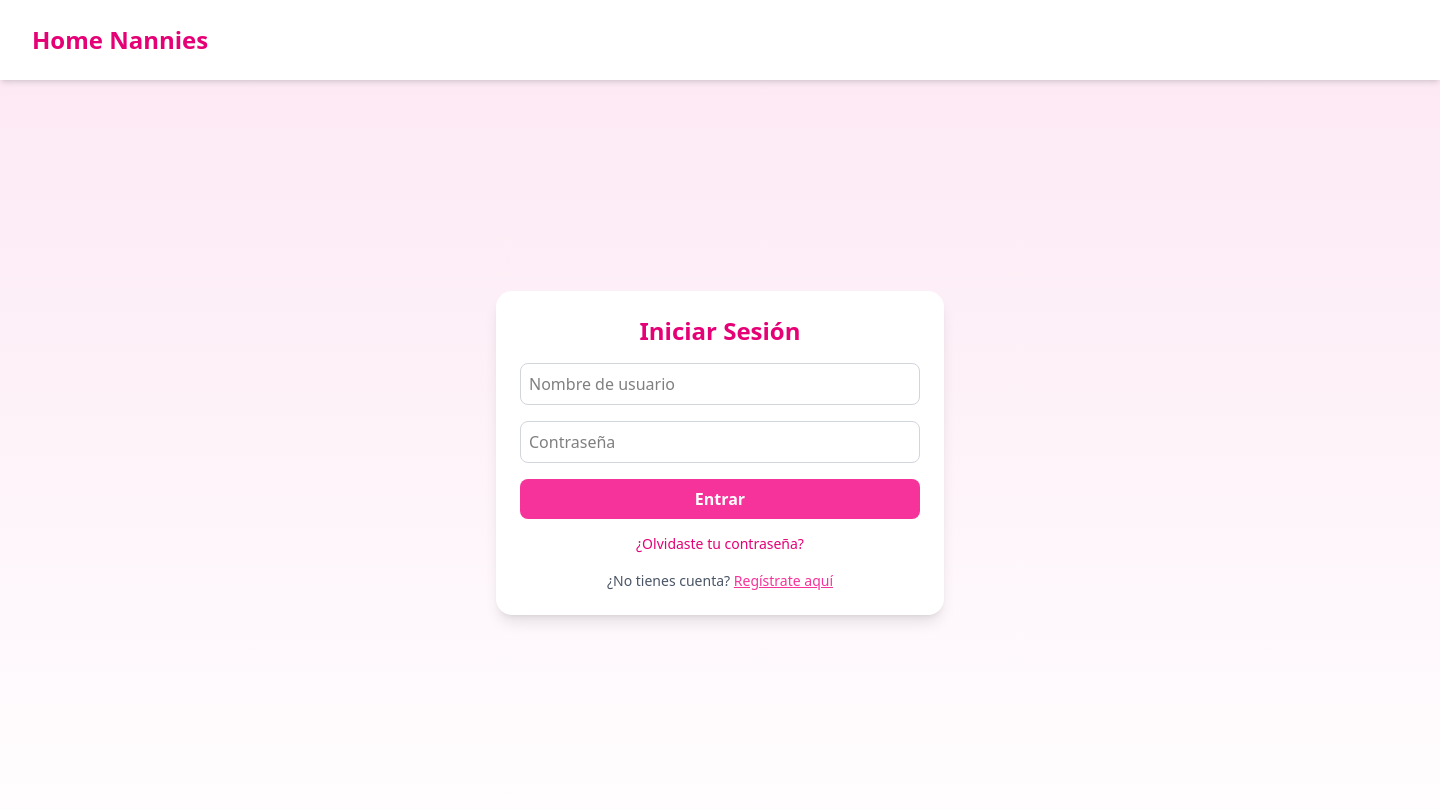
Test: Login Component › maneja error de credenciales incorrectas
Type "testuser" into the field with placeholder "Nombre de usuario".
click(720, 384); type("testuser")  # box [520,363,920,405]
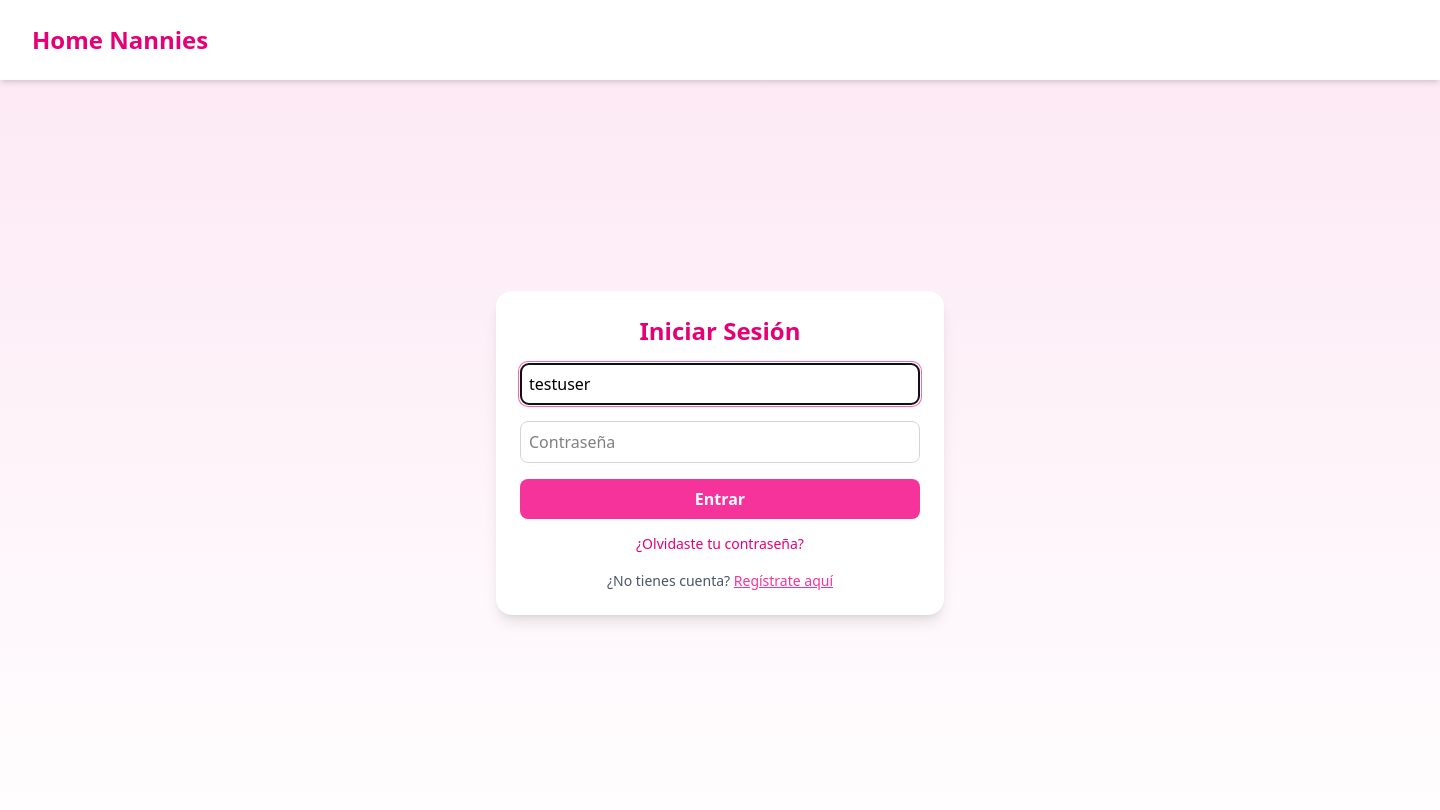
Type "wrongpassword123" into the password field with placeholder "Contraseña".
click(720, 442); type("wrongpassword123")  # box [520,421,920,463]
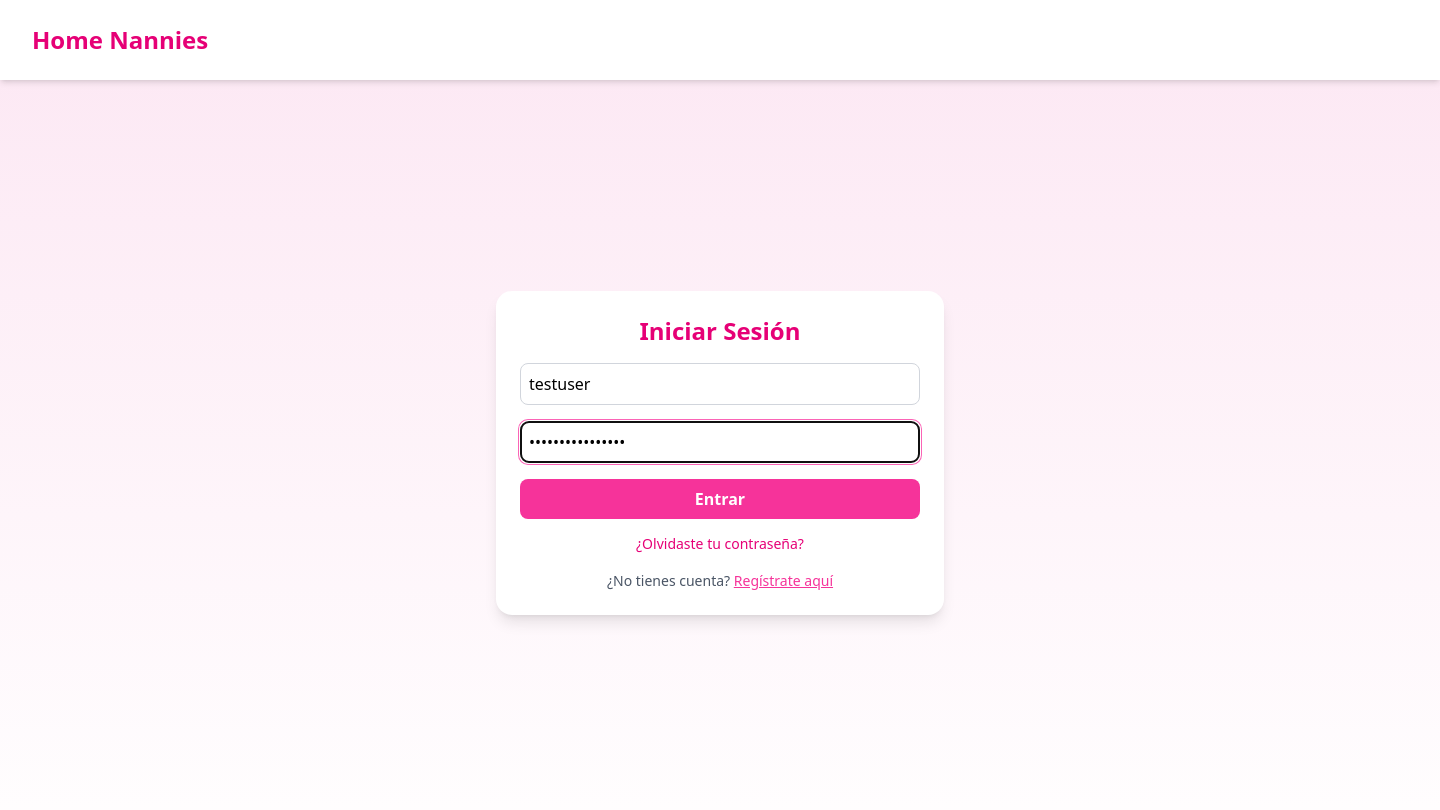
Click the button "Entrar".
click(720, 499)  # box [520,479,920,519]
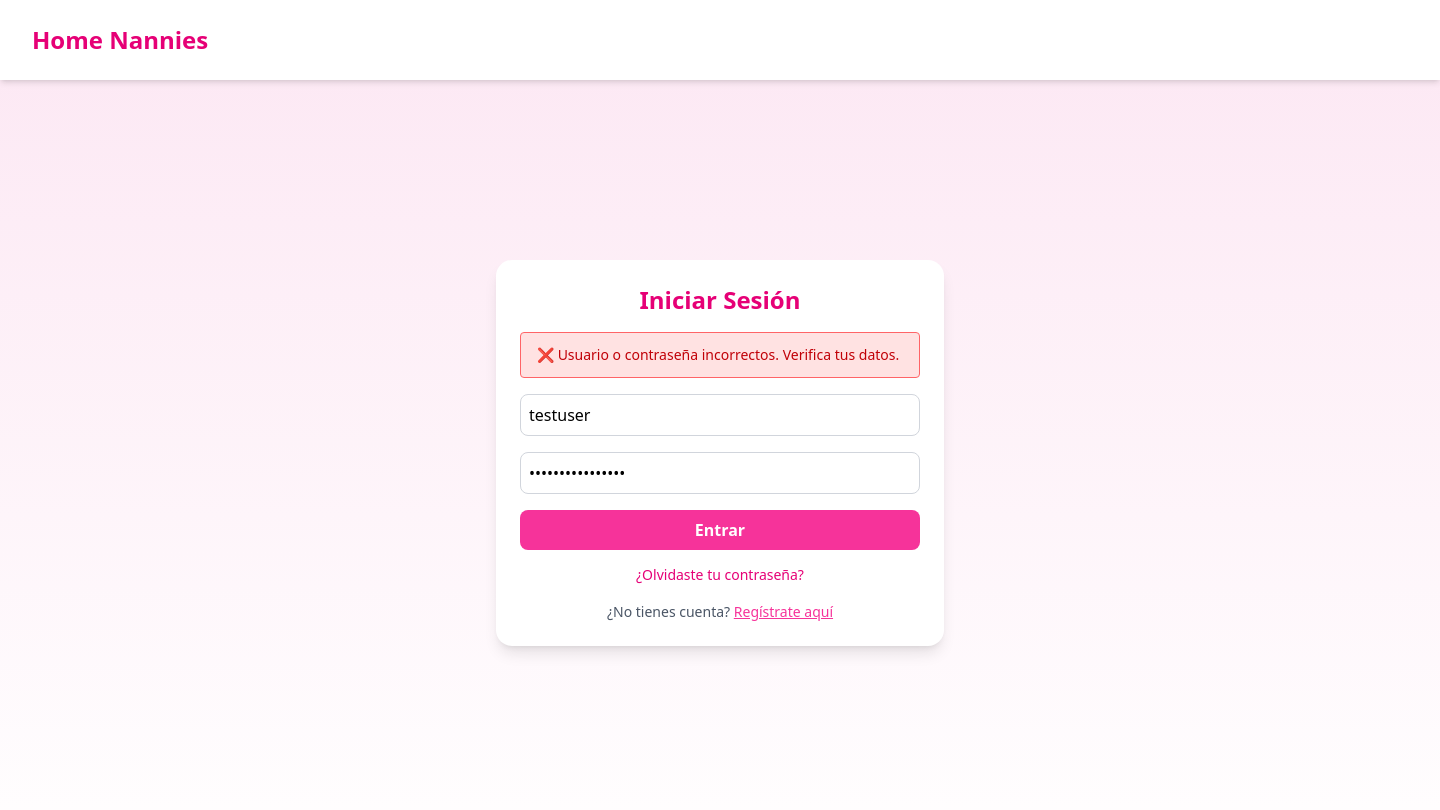
Now the text "❌ Usuario o contraseña incorrectos. Verifica tus datos." is shown, box [520,332,920,378]
